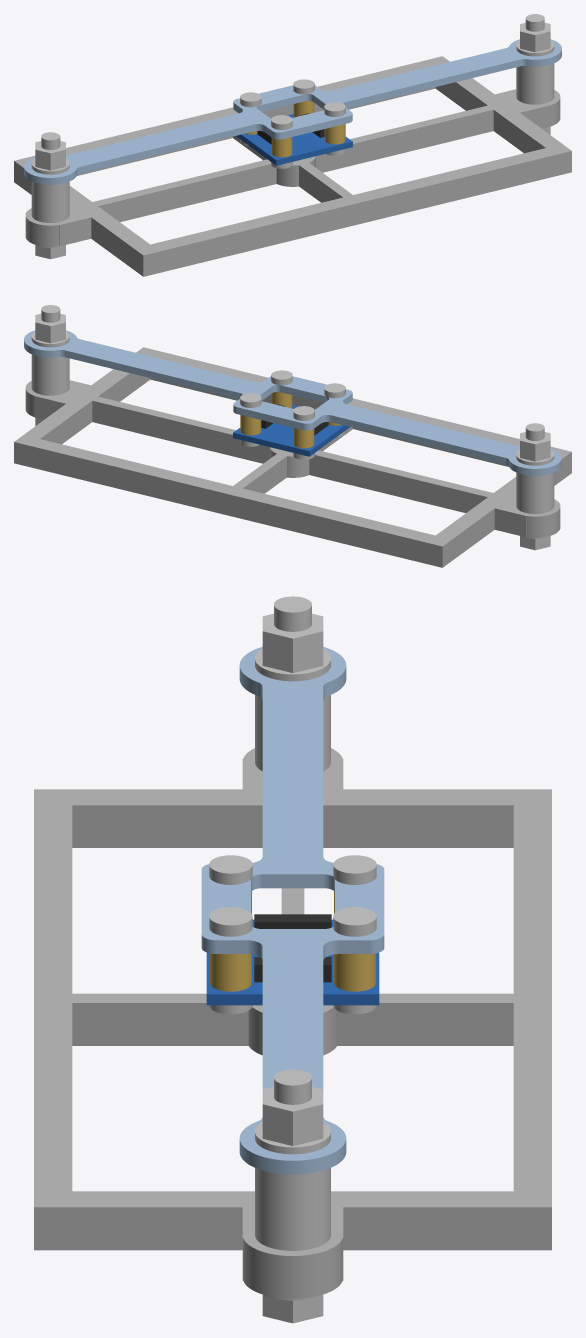
The model's file is sensorbruecke-as5600-baugruppe-montiert.glb.
3 views of the same model, one above another, from view 1: azimuth 30°, elevation 25°; view 2: azimuth 150°, elevation 25°; view 3: azimuth 270°, elevation 25° (orthographic). The views are drawn at different scales.
Parts seen in each view (by area): view 1: 01_Luftbox_Rueckseite_1, 05_Sensorbruecke_1, 03_AS5600_Platine_1, 06_Distanzhuelse_12_1, 06_Distanzhuelse_12_2, 10_Mutter_ISO7042_M5_2, 10_Mutter_ISO7042_M5_1, 08_ISO4017_M5x30_1, 04_Abstandshalter_M3x6_1, 04_Abstandshalter_M3x6_3, 08_ISO4017_M5x30_2; view 2: 01_Luftbox_Rueckseite_1, 05_Sensorbruecke_1, 03_AS5600_Platine_1, 06_Distanzhuelse_12_1, 06_Distanzhuelse_12_2, 10_Mutter_ISO7042_M5_2, 10_Mutter_ISO7042_M5_1, 08_ISO4017_M5x30_1, 04_Abstandshalter_M3x6_2, 04_Abstandshalter_M3x6_4, 08_ISO4017_M5x30_2; view 3: 01_Luftbox_Rueckseite_1, 05_Sensorbruecke_1, 06_Distanzhuelse_12_2, 10_Mutter_ISO7042_M5_1, 10_Mutter_ISO7042_M5_2, 08_ISO4017_M5x30_2, 03_AS5600_Platine_1, 04_Abstandshalter_M3x6_3, 04_Abstandshalter_M3x6_4, 08_ISO4017_M5x30_1, 03_AS5600_Platine_3, 06_Distanzhuelse_12_1 (+6 smaller).
Part boxes in pixels (bbox=[...]): 01_Luftbox_Rueckseite_1: bbox=[14, 56, 571, 276]; 05_Sensorbruecke_1: bbox=[24, 39, 561, 184]; 03_AS5600_Platine_1: bbox=[236, 114, 352, 165]; 06_Distanzhuelse_12_1: bbox=[31, 181, 69, 222]; 06_Distanzhuelse_12_2: bbox=[516, 63, 554, 104]; 10_Mutter_ISO7042_M5_2: bbox=[520, 22, 550, 52]; 10_Mutter_ISO7042_M5_1: bbox=[35, 141, 65, 170]; 08_ISO4017_M5x30_1: bbox=[35, 132, 65, 259]; 04_Abstandshalter_M3x6_1: bbox=[271, 137, 292, 157]; 04_Abstandshalter_M3x6_3: bbox=[324, 124, 345, 144]; 08_ISO4017_M5x30_2: bbox=[525, 14, 550, 134]; 01_Luftbox_Rueckseite_1: bbox=[14, 347, 571, 567]; 05_Sensorbruecke_1: bbox=[24, 330, 561, 475]; 03_AS5600_Platine_1: bbox=[233, 405, 349, 456]; 06_Distanzhuelse_12_1: bbox=[516, 472, 554, 513]; 06_Distanzhuelse_12_2: bbox=[31, 354, 69, 395]; 10_Mutter_ISO7042_M5_2: bbox=[35, 313, 65, 343]; 10_Mutter_ISO7042_M5_1: bbox=[520, 432, 550, 461]; 08_ISO4017_M5x30_1: bbox=[520, 423, 550, 550]; 04_Abstandshalter_M3x6_2: bbox=[293, 428, 314, 448]; 04_Abstandshalter_M3x6_4: bbox=[240, 415, 261, 435]; 08_ISO4017_M5x30_2: bbox=[35, 305, 60, 425]; 01_Luftbox_Rueckseite_1: bbox=[34, 748, 551, 1298]; 05_Sensorbruecke_1: bbox=[201, 647, 384, 1174]; 06_Distanzhuelse_12_2: bbox=[255, 1168, 330, 1250]; 10_Mutter_ISO7042_M5_1: bbox=[262, 613, 323, 672]; 10_Mutter_ISO7042_M5_2: bbox=[262, 1086, 323, 1145]; 08_ISO4017_M5x30_2: bbox=[262, 1069, 323, 1323]; 03_AS5600_Platine_1: bbox=[206, 919, 379, 1005]; 04_Abstandshalter_M3x6_3: bbox=[210, 953, 251, 991]; 04_Abstandshalter_M3x6_4: bbox=[334, 953, 375, 991]; 08_ISO4017_M5x30_1: bbox=[274, 596, 311, 631]; 03_AS5600_Platine_3: bbox=[254, 914, 331, 928]; 06_Distanzhuelse_12_1: bbox=[255, 695, 330, 771].
Bounding box in the file's own units: 161 × 33.5 × 68.
